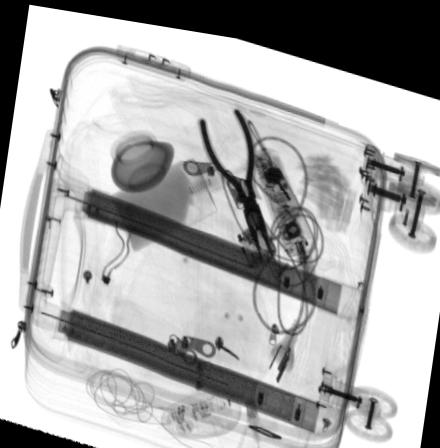Pliers: (197, 103, 276, 254)
